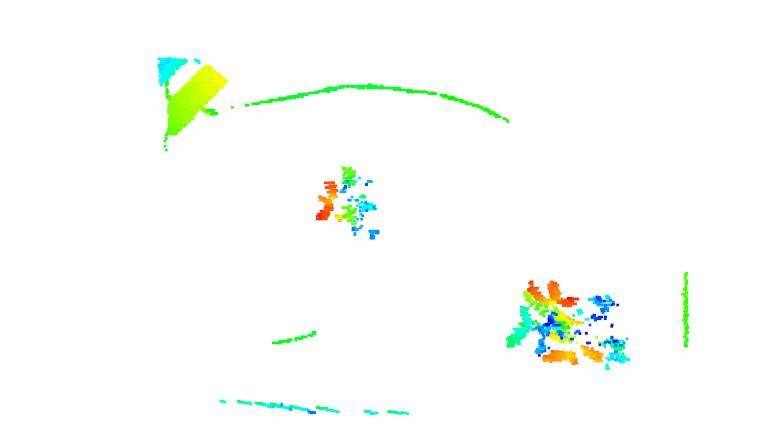chickpea: (507, 305, 633, 375), (519, 274, 615, 342), (314, 161, 382, 240)
